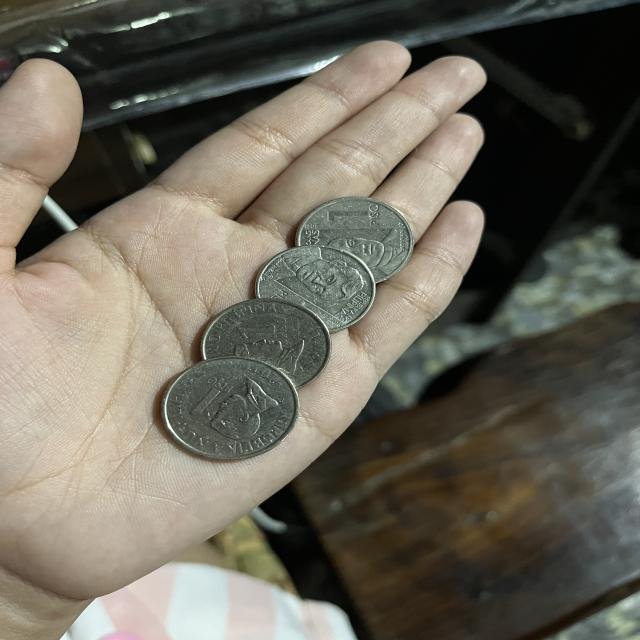1_New_Front: (273, 246, 362, 321), (320, 208, 400, 268)
1_Old_Front: (190, 373, 278, 444), (230, 318, 306, 377)
